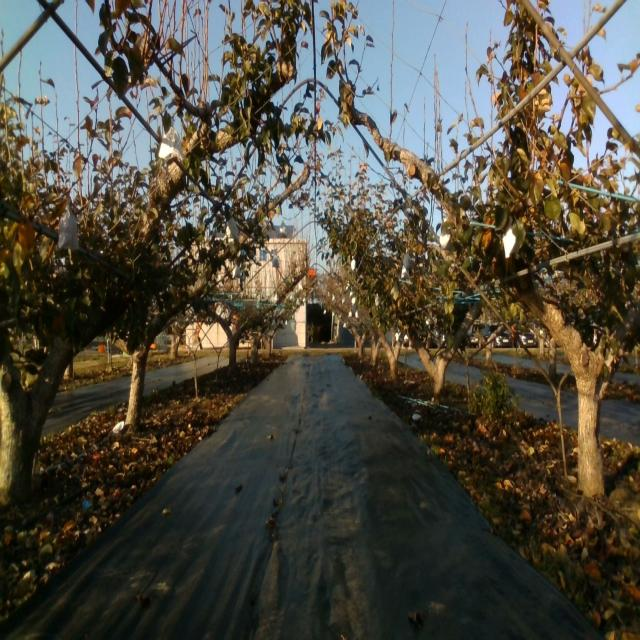pearbags: (56, 203, 78, 252), (159, 125, 184, 165), (502, 225, 518, 260), (439, 226, 451, 250), (226, 218, 238, 238), (277, 220, 288, 238)
